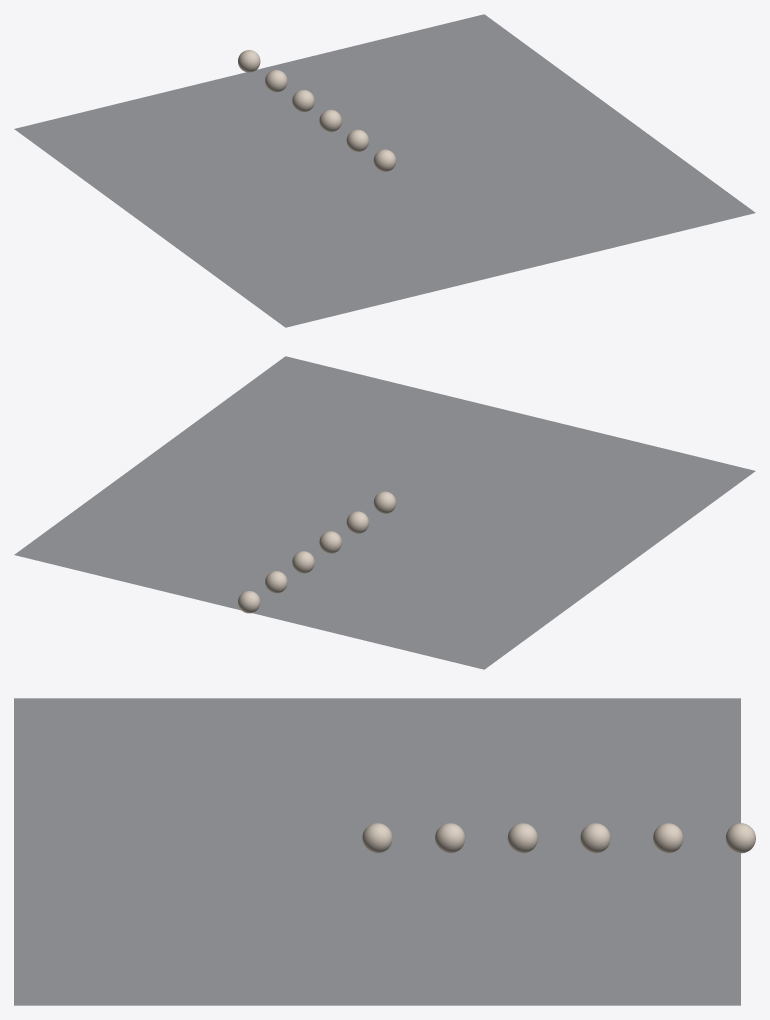
File: lod_fixture.gltf
3 views of the same model, one above another, from view 1: azimuth 30°, elevation 25°; view 2: azimuth 150°, elevation 25°; view 3: azimuth 270°, elevation 25° (orthographic). The views are drawn at different scales.
Visible parts, largest first — view 1: Ground; view 2: Ground; view 3: Ground, Sphere_00, Sphere_04, Sphere_01, Sphere_02, Sphere_05, Sphere_03.
Part boxes in pixels (<box>): Ground: <box>14,14,755,327</box>; Ground: <box>14,356,755,669</box>; Ground: <box>14,698,740,1005</box>; Sphere_00: <box>362,823,392,853</box>; Sphere_04: <box>653,823,683,853</box>; Sphere_01: <box>435,823,465,853</box>; Sphere_02: <box>507,823,537,853</box>; Sphere_05: <box>725,823,755,853</box>; Sphere_03: <box>580,823,610,853</box>.
Bounding box in the file's own units: 24 × 1 × 24.5.
